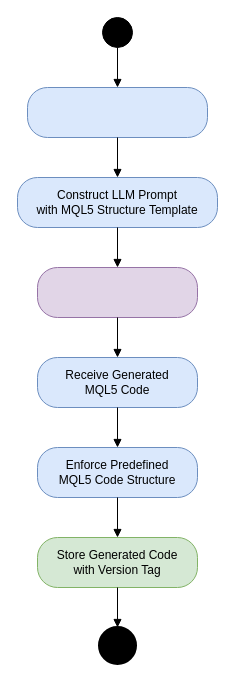
Image size: 235x682. Some labels were removed from this diagram. The shapes that lost their labels are listed below. From the top down, each one's centre as x and y in pixels, then its label:
At (x=117, y=112): "Receive Natural Language Strategy Input".
At (x=117, y=292): "Call LLM API for Code Generation".
